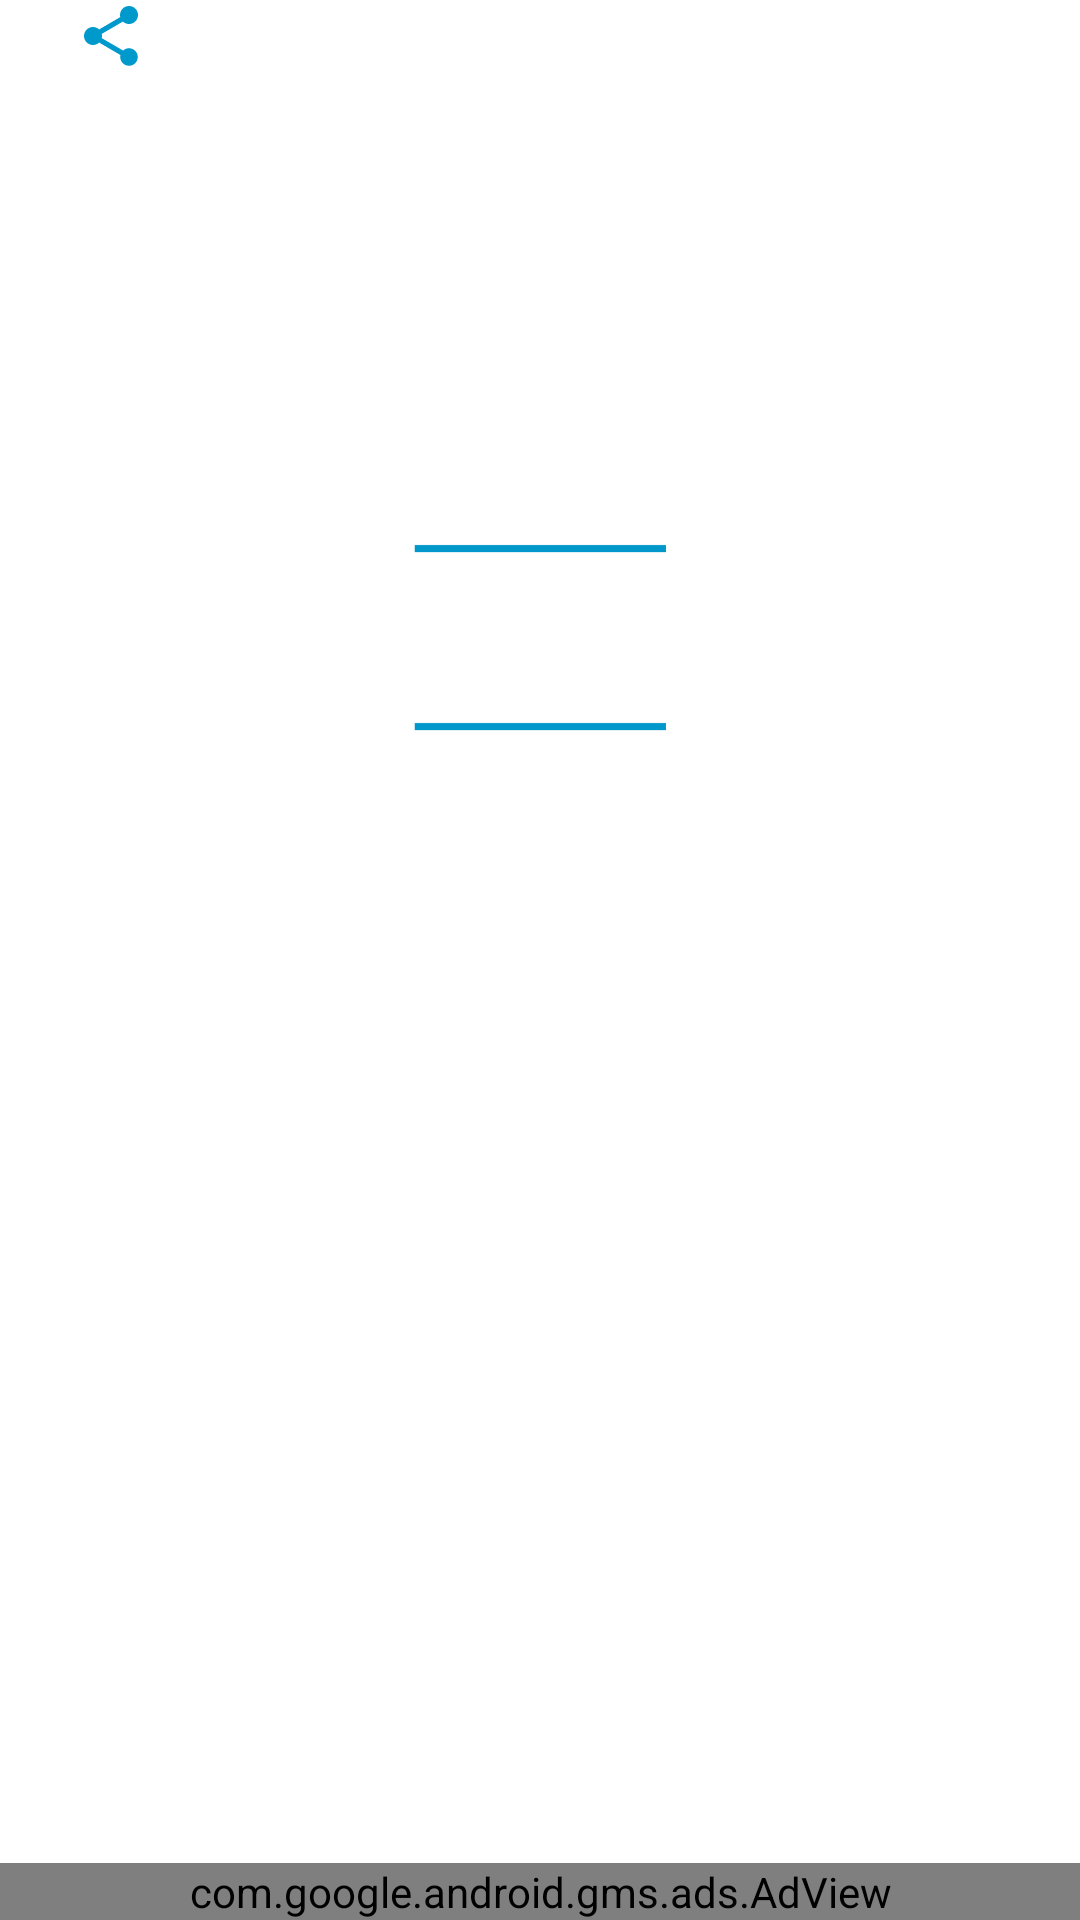

Icon bounding boxes for this 1080px×1920px phone screenshot, format (x1, y1, x2, y2):
share: (84, 6, 138, 66)
